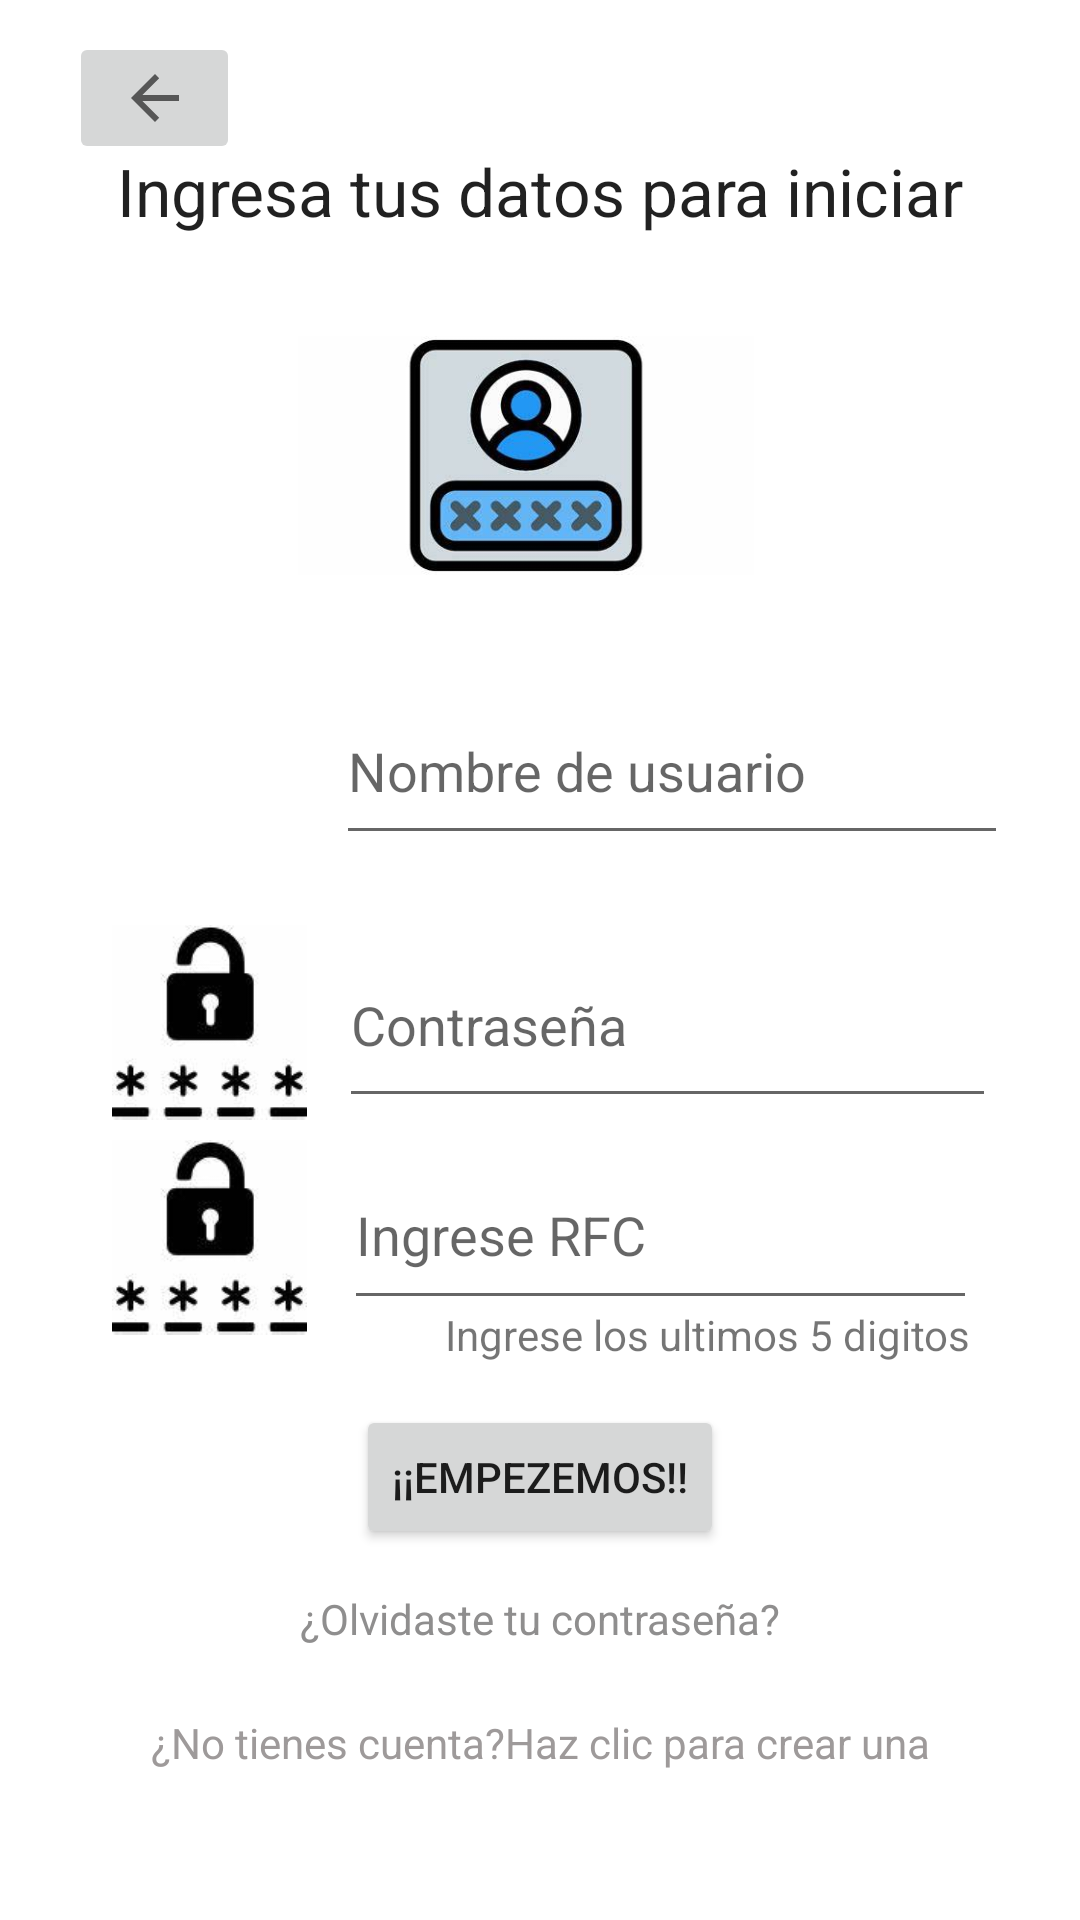

Where to tap for icons on this 1080x1920 app screen, as (x=x, y=y):
contrasena: (x=209, y=1035), (x=209, y=1223)
iniciosesion: (x=526, y=455)
